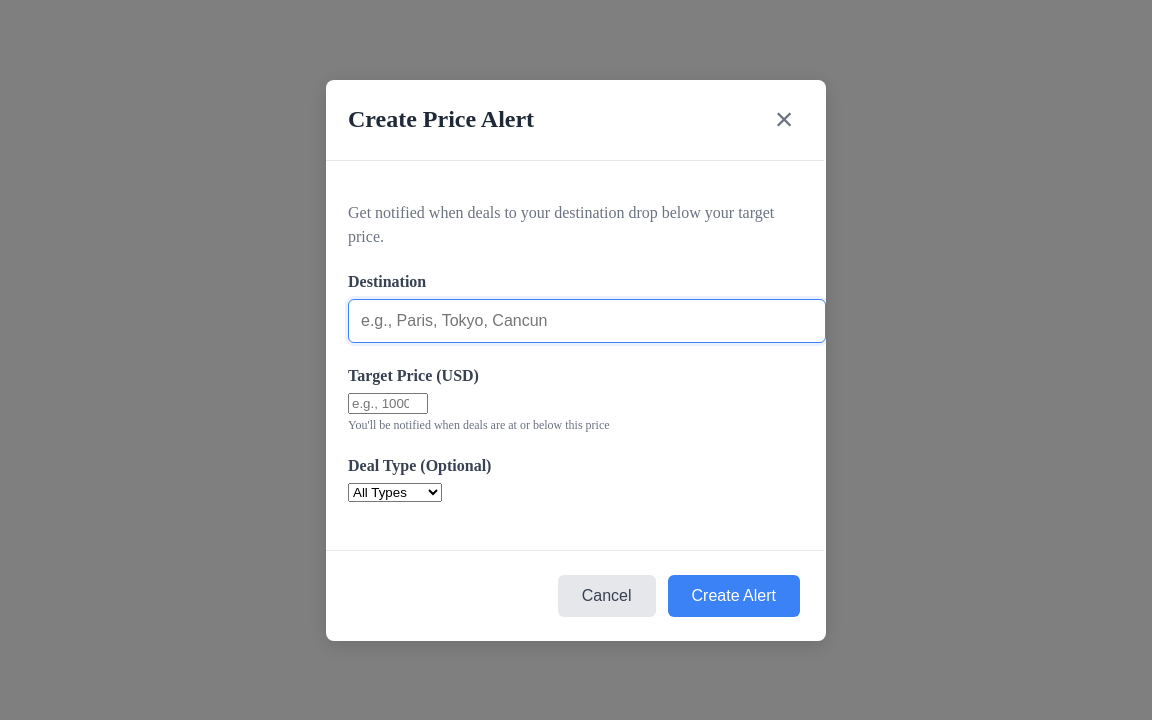
it: CreateAlertModal › shows error if similar alert exists
Step 1. Type "Paris" into the field labelled "Destination" → [587, 320], box [348,298,826,342]
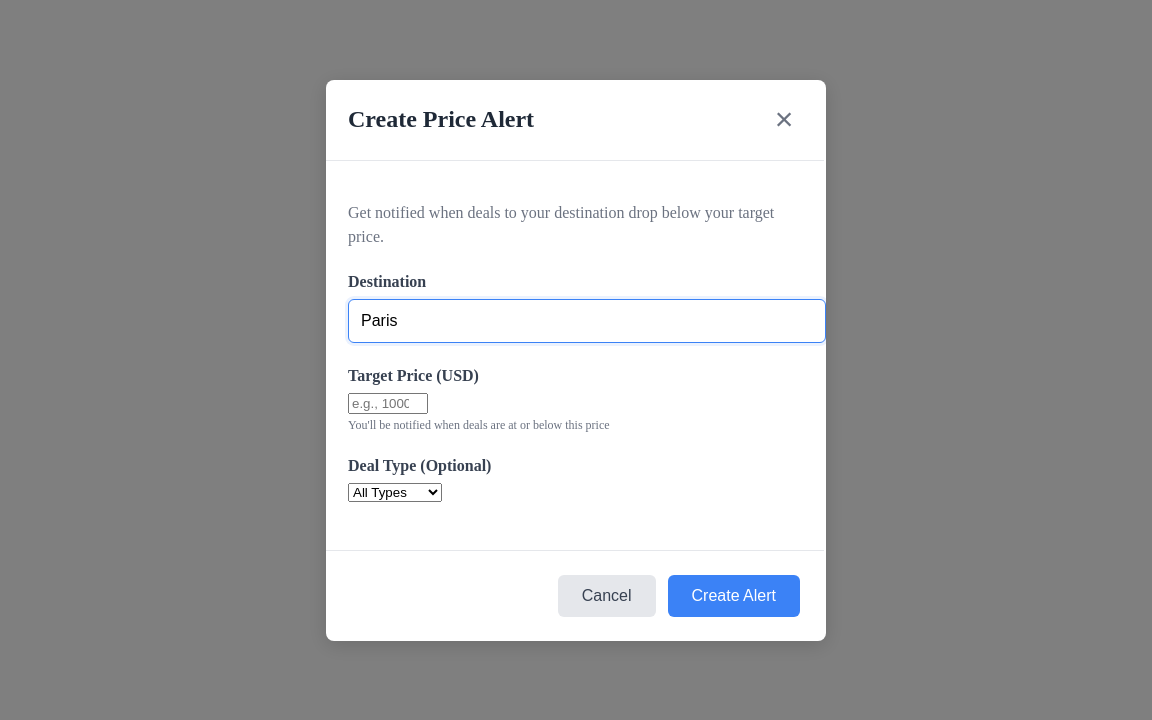
Step 2. Type "1000" into the number field labelled "Target Price (USD)" → [388, 403], box [348,392,428,414]
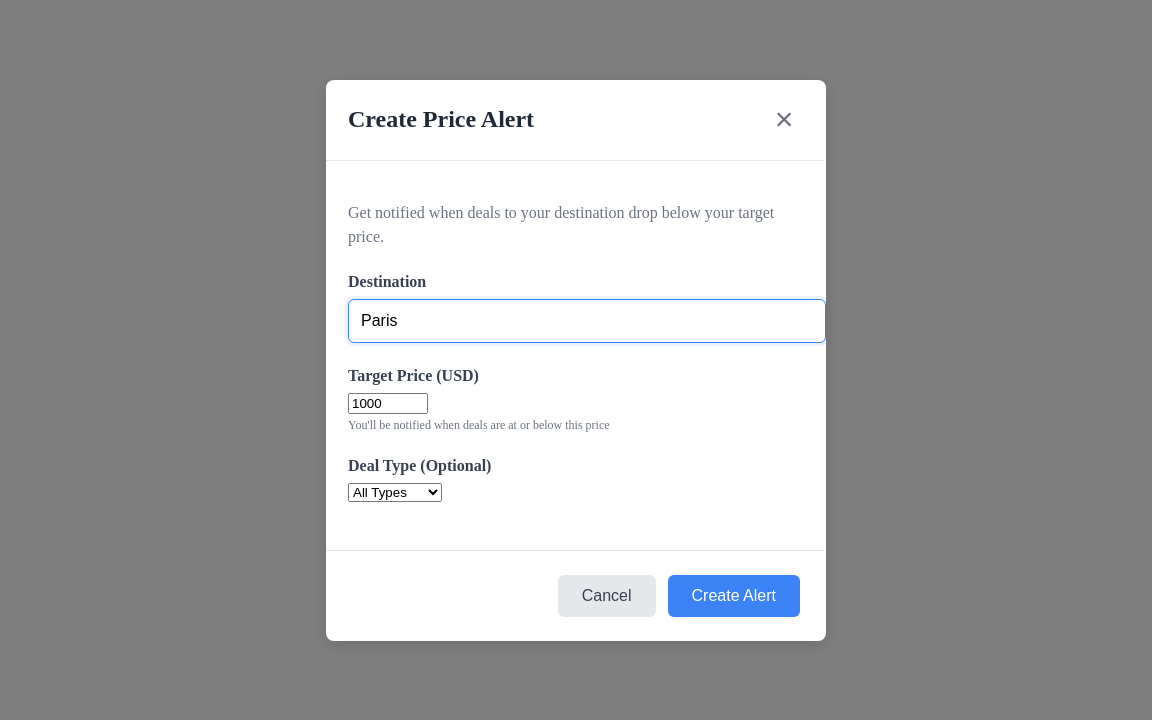
Step 3. Click the button "Create Alert" → [734, 596], box [668,574,800,616]
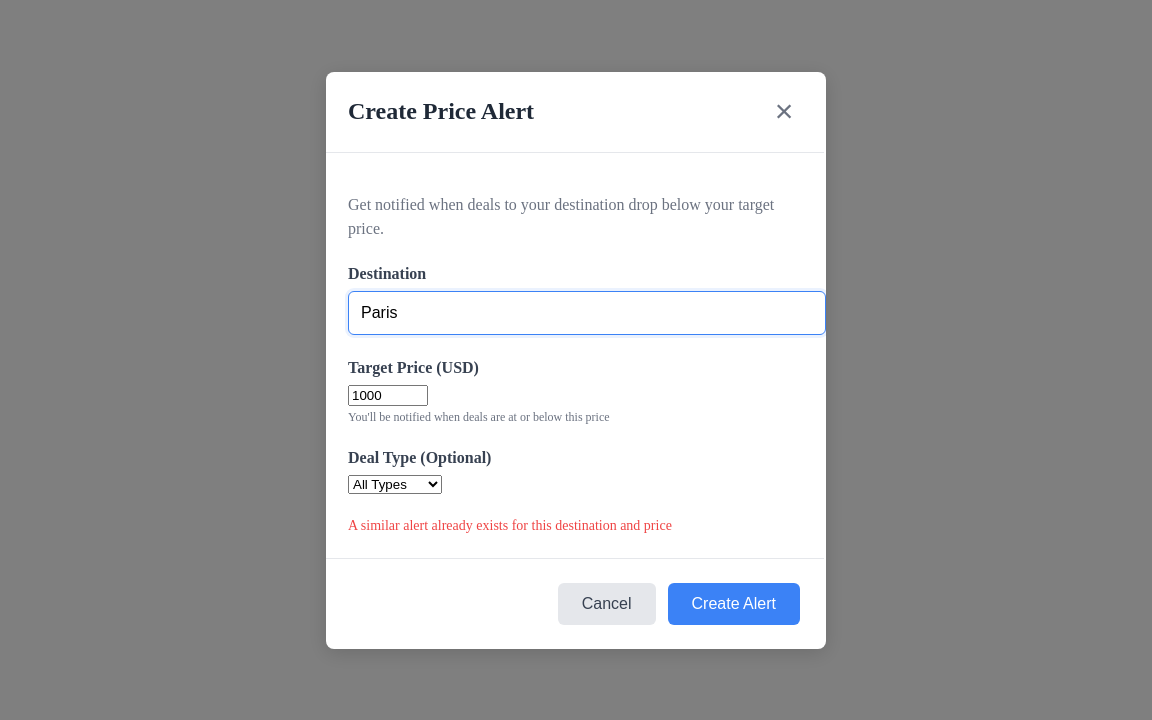
Result: the text "A similar alert already exists for this destination and price" is shown at [348,518,672,532]
